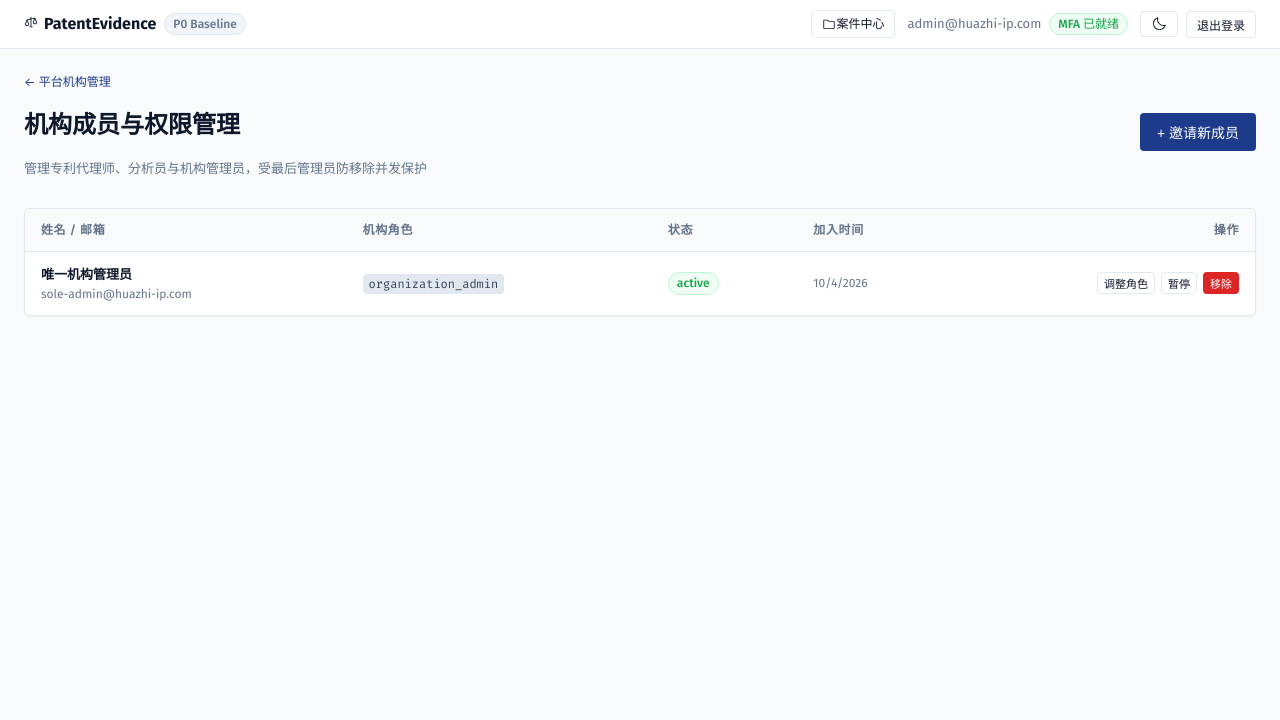
Test: Organization Members & Administration › protects the last active administrator against removal / demotion
This screenshot has width=1280, height=720.
Expected: the text "唯一机构管理员" is shown, x1=41 y1=267 x2=132 y2=282
Click the button "移除" at (1221,283), box x1=1203 y1=272 x2=1239 y2=294
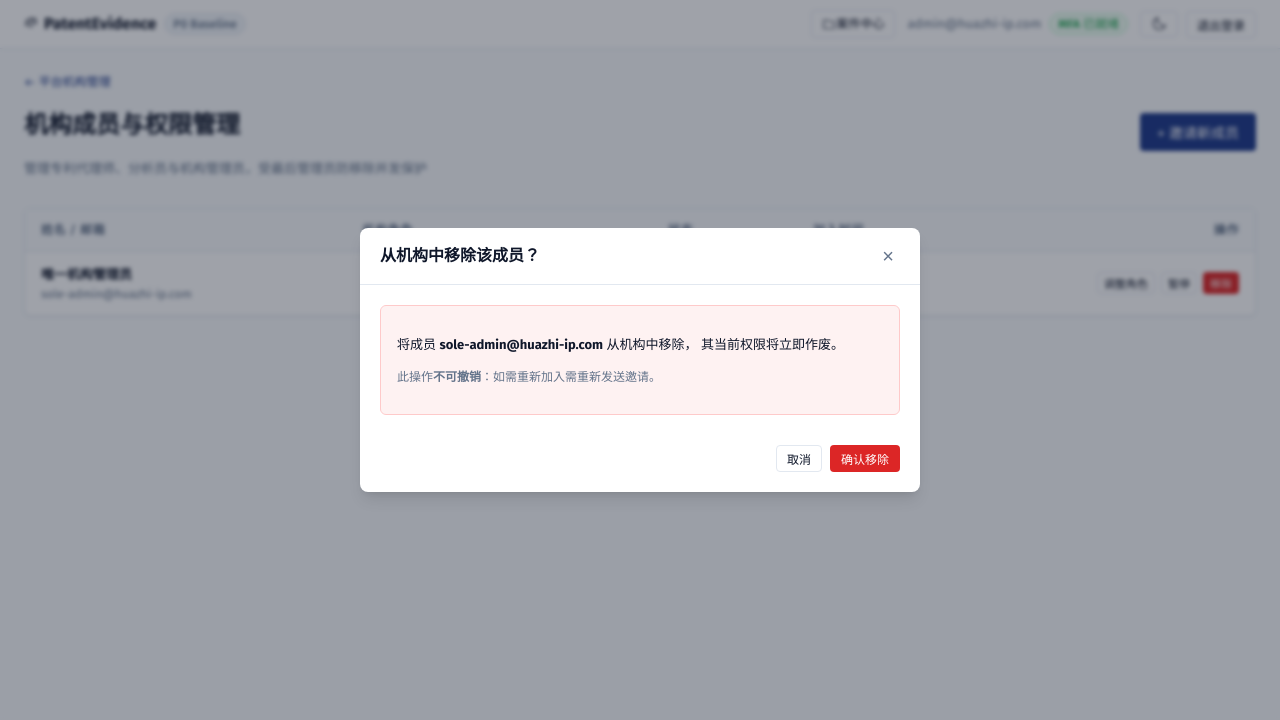
Click the button "确认移除" at (865,458), box x1=830 y1=445 x2=900 y2=472
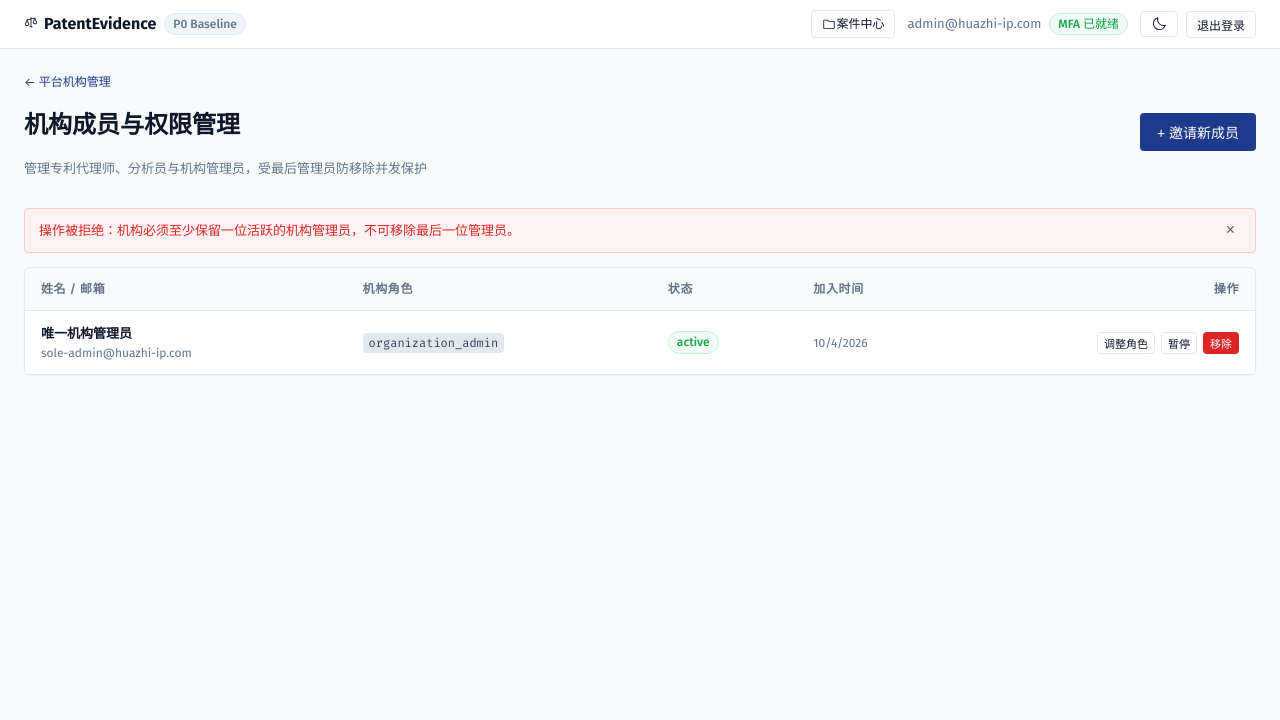
Expected: the text "操作被拒绝：机构必须至少保留一位活跃的机构管理员，不可移除最后一位管理员。" is shown, x1=39 y1=223 x2=520 y2=238
